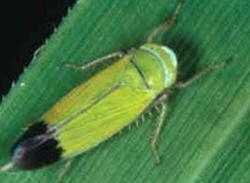pest: (10, 42, 179, 169)
